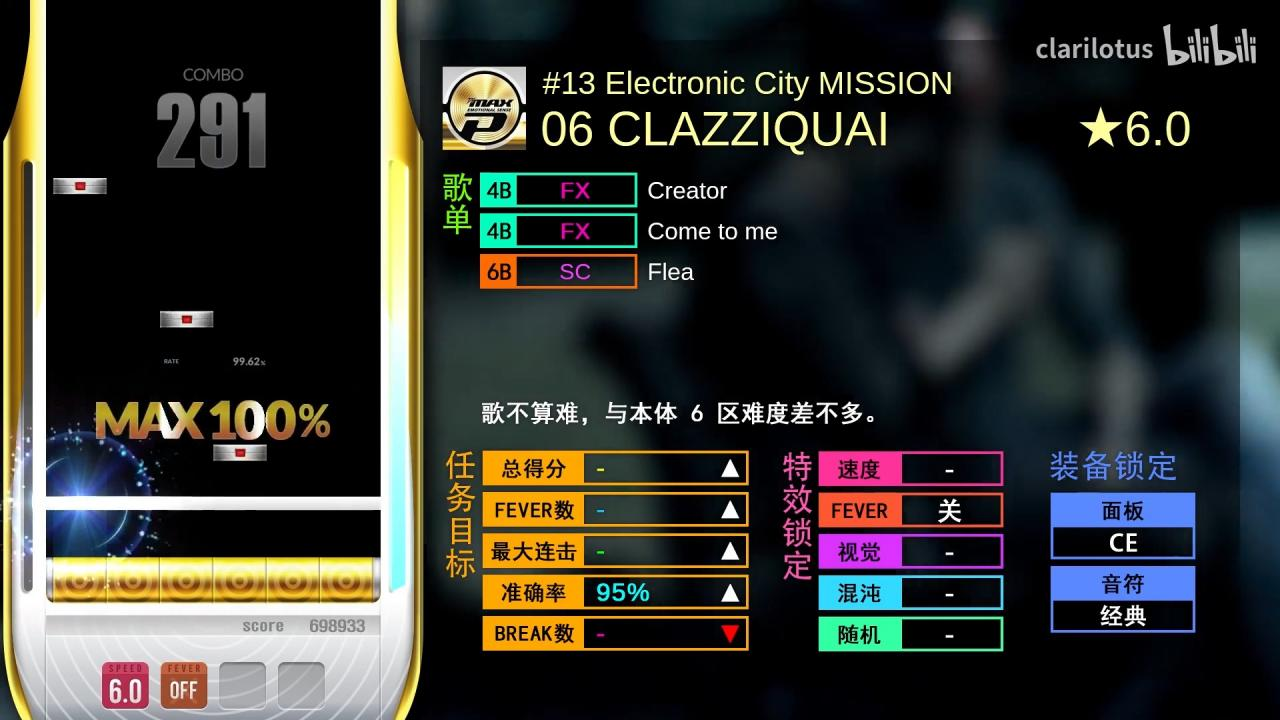note: (212, 443, 268, 462), (52, 176, 108, 194), (160, 310, 214, 328)
